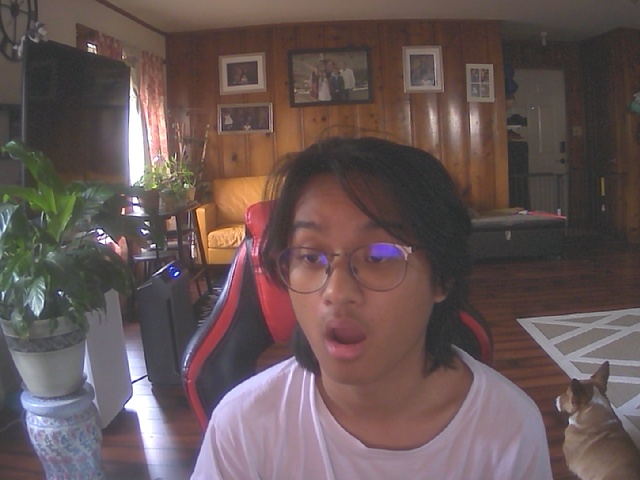fear: (272, 152, 456, 390)
